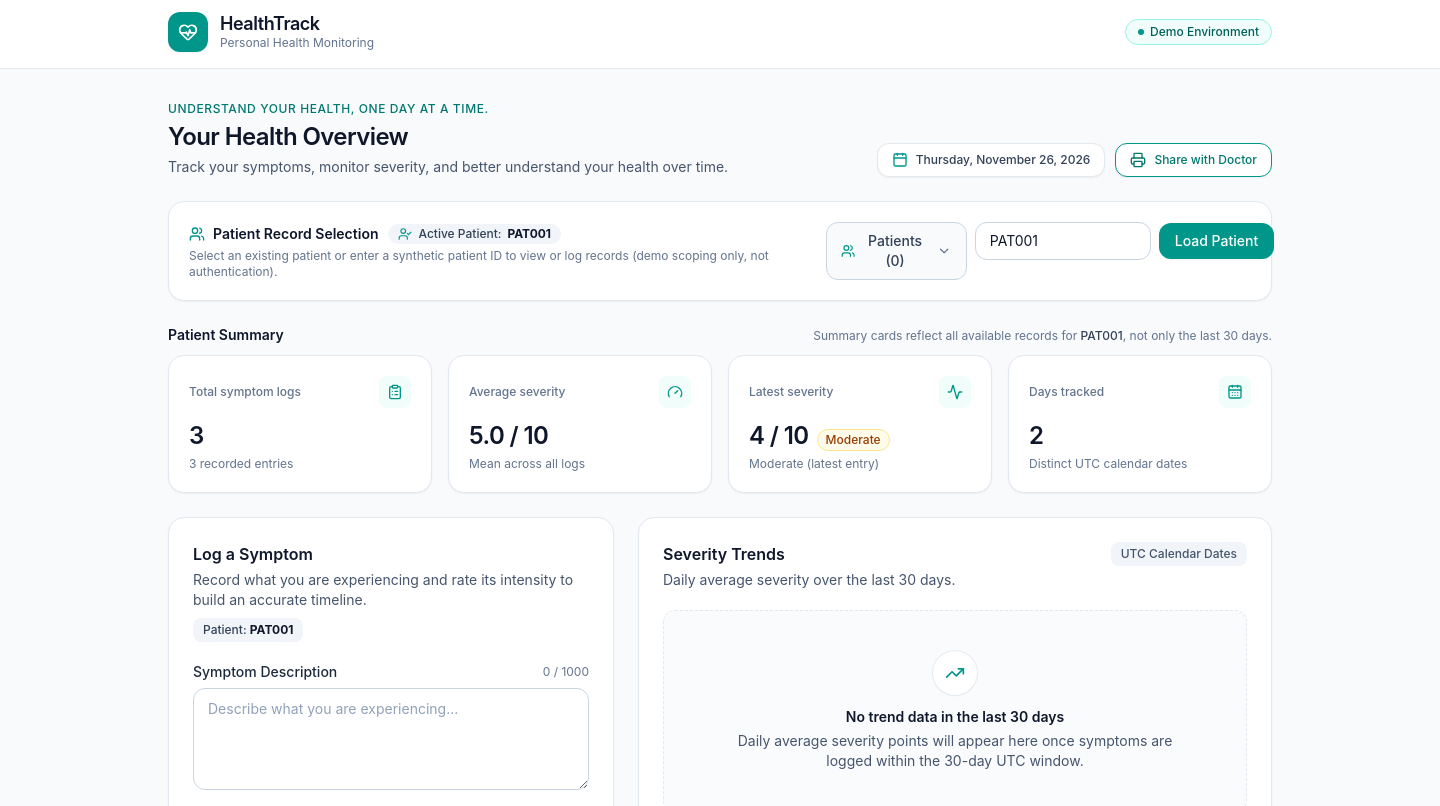
it: HealthTrack Dashboard › switches patients and prevents stale responses from overwriting active patient data
Trigger a slow reload of PAT001, then immediately switch to PAT002
Click the button "Load Patient" at (1216, 241), box [1159,223,1274,259]
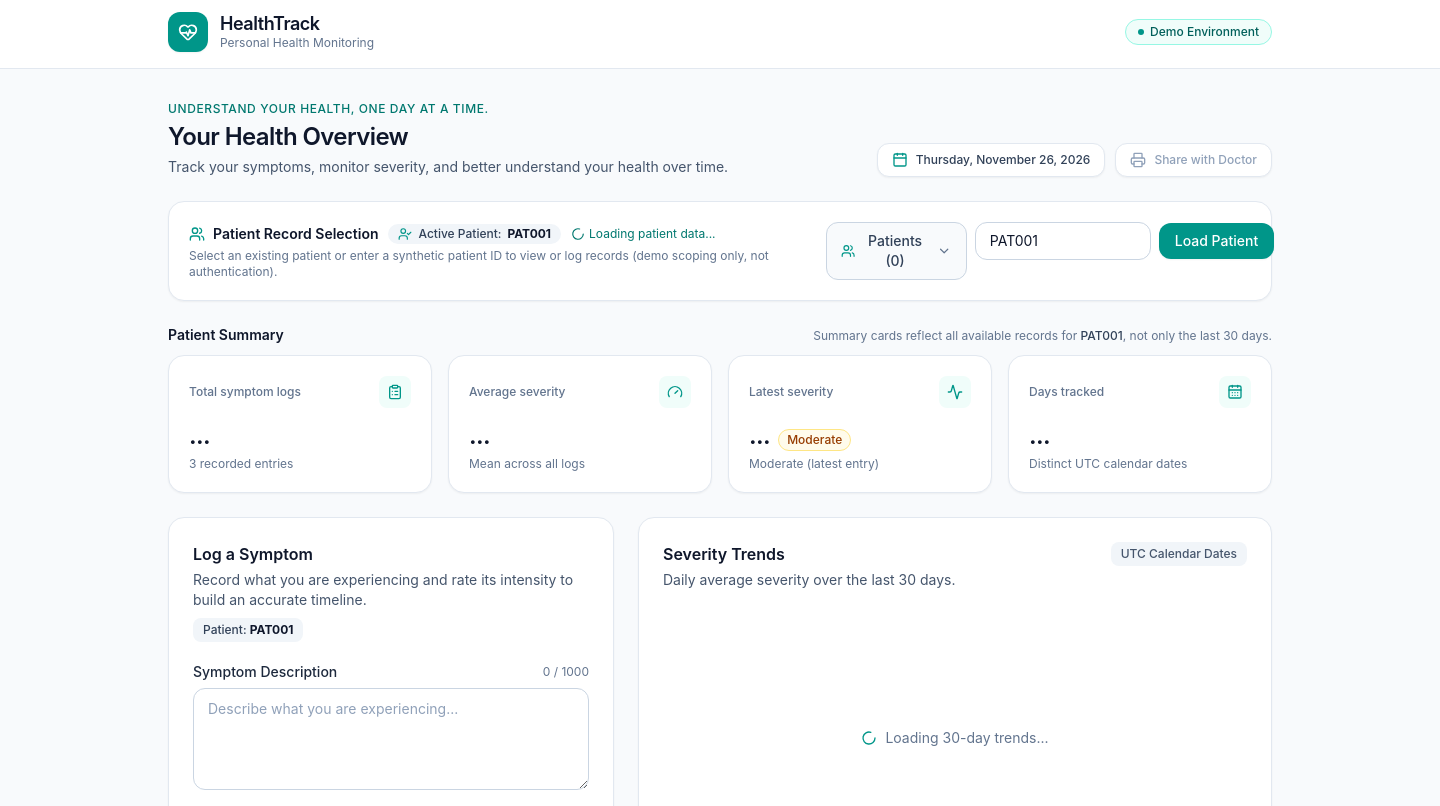
Replace the text in the field named "Patient ID" with "PAT002" at (1063, 241), box [975,222,1151,260]
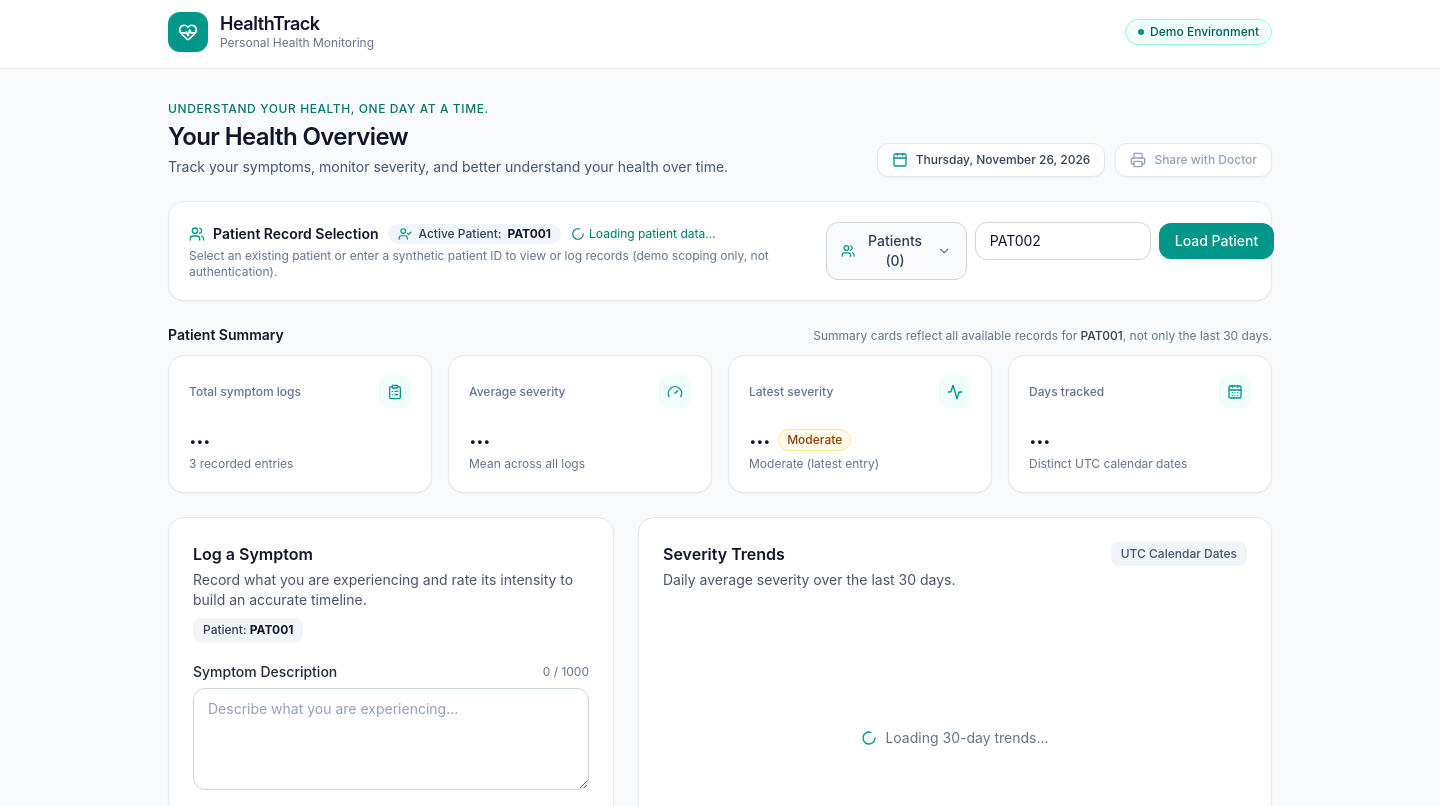
Click the button "Load Patient" at (1216, 241), box [1159,223,1274,259]
(page scrolled)
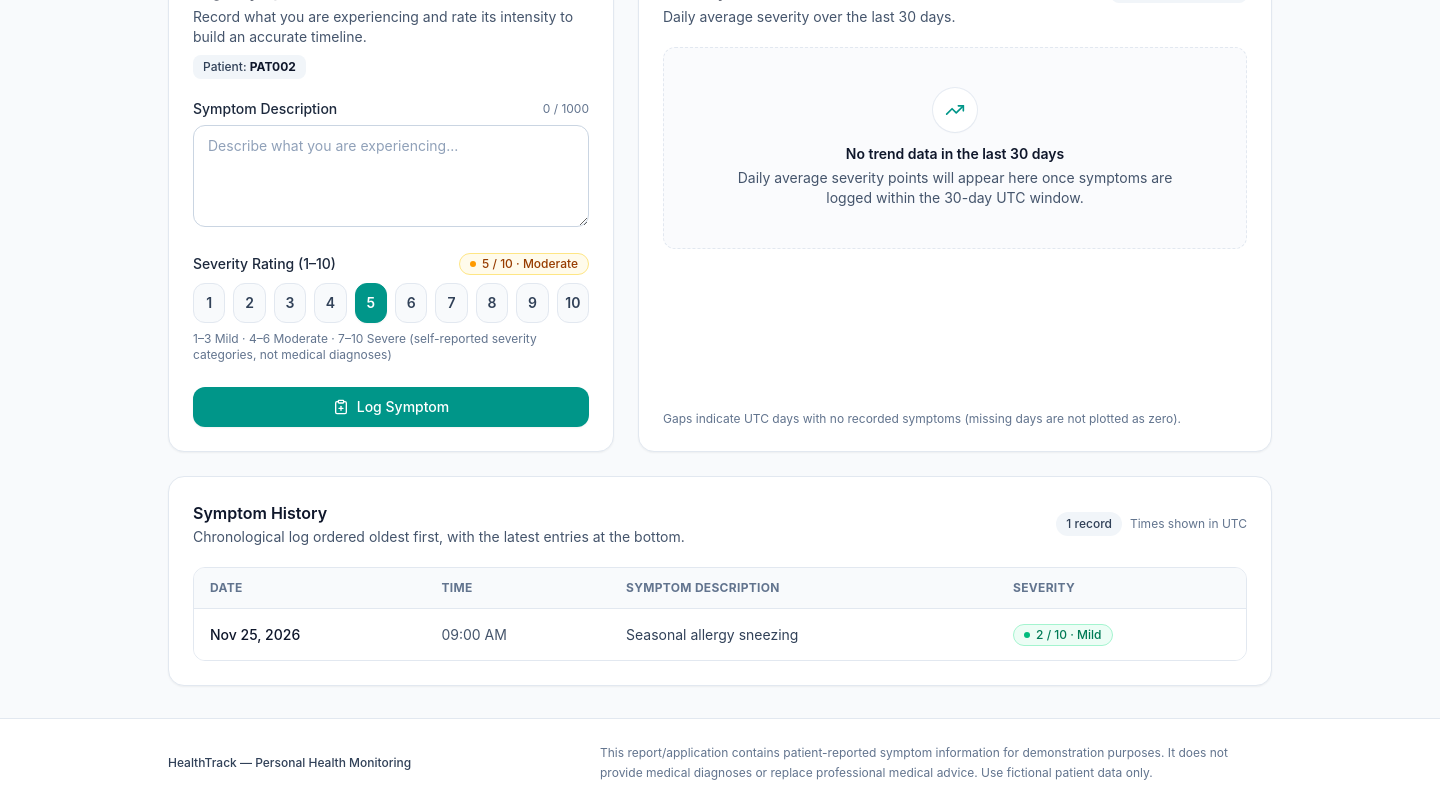
Now the text "Seasonal allergy sneezing" is shown, box [610,608,997,660]
